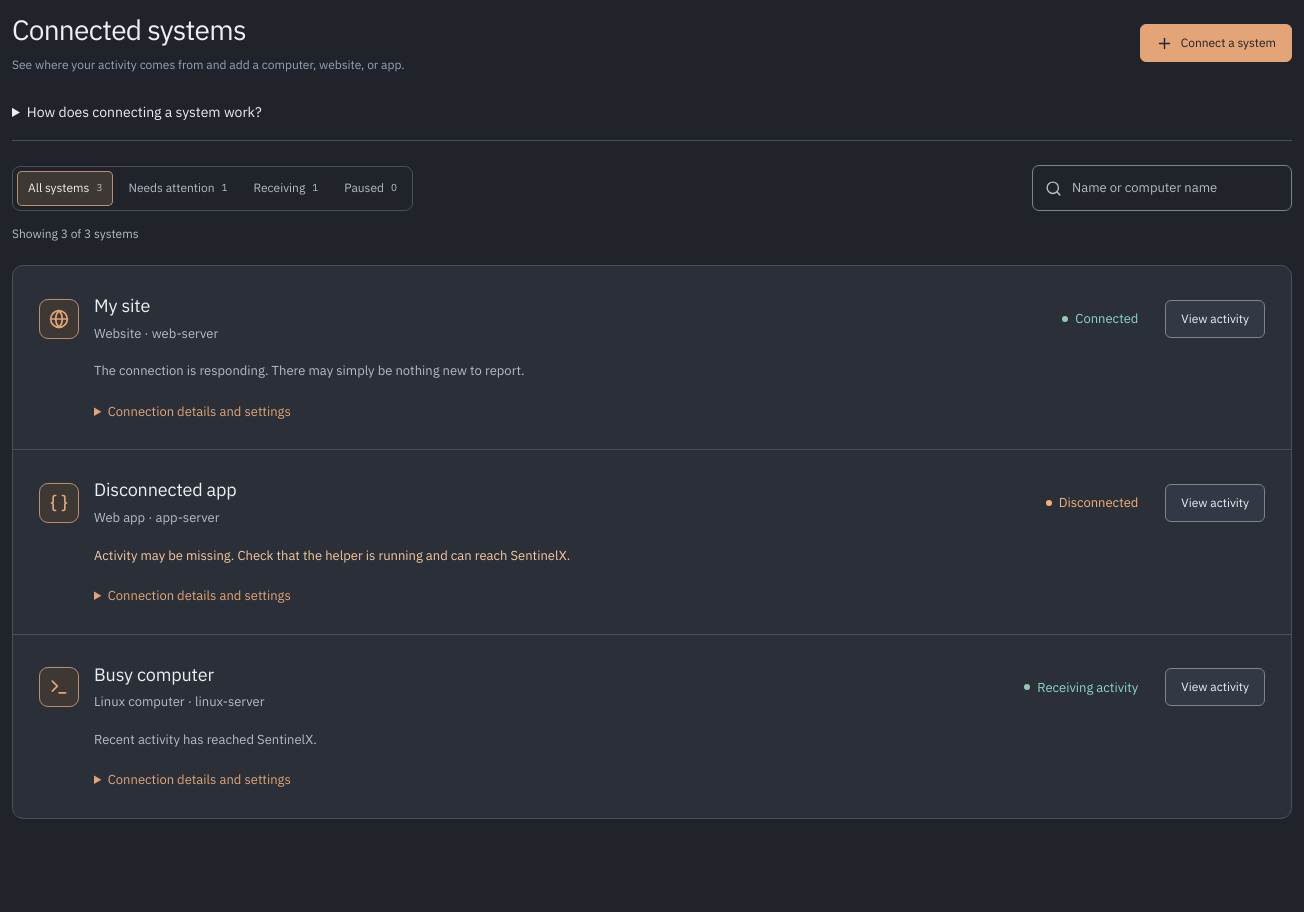
Test case: guided source onboarding › filters connection issues and searches names without changing any source
Click the radio button labelled "Needs attention" at [178, 187], box [128, 180, 228, 195]
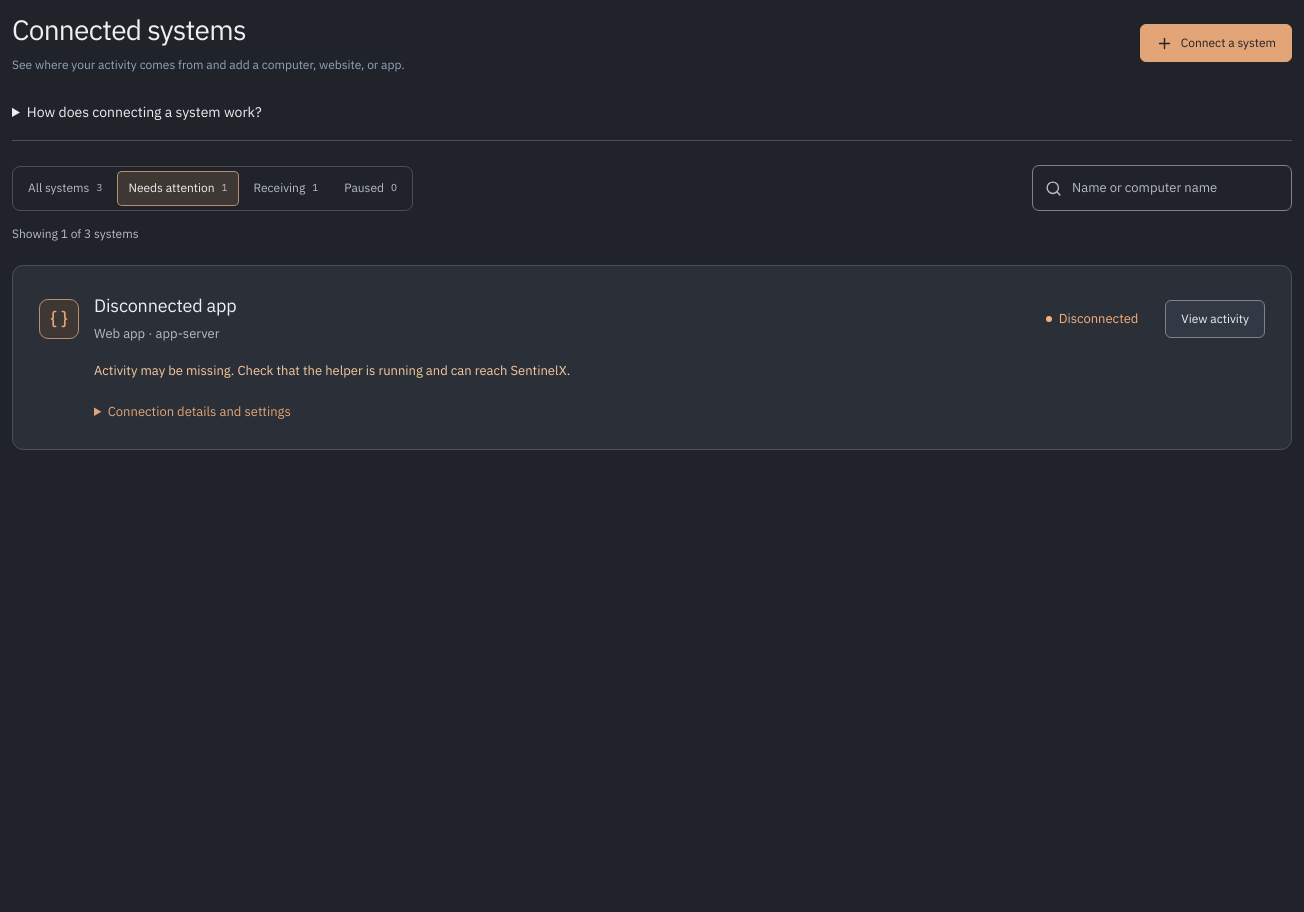
Check: the heading "Disconnected app" is shown, box [94, 294, 237, 317]
Check: the heading "My site" is gone
Check: the message reads "Showing 1 of 3 systems", box [12, 226, 138, 241]
Click the radio button labelled "All systems" at [65, 187], box [28, 180, 102, 195]
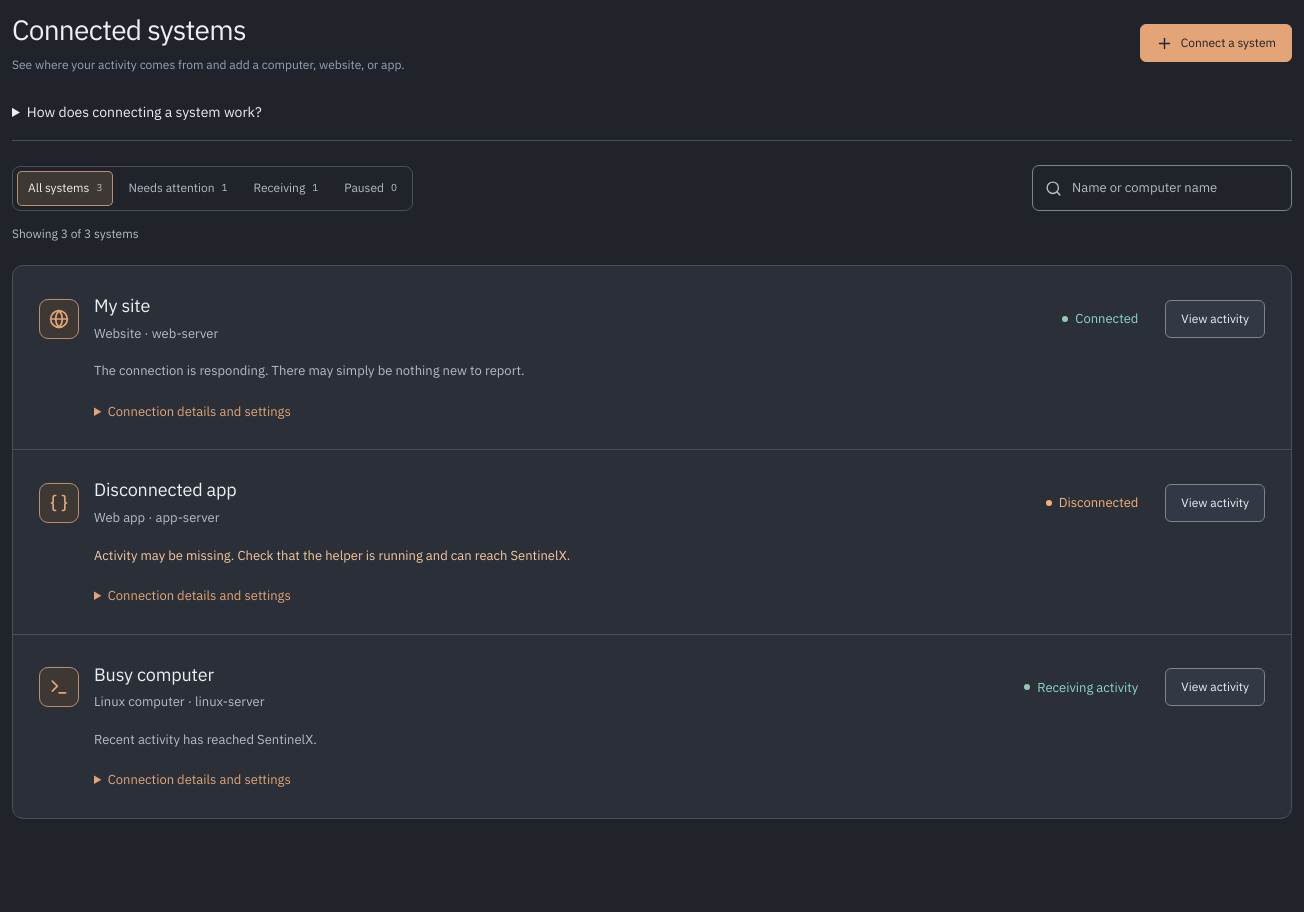
Type "linux-server" into the field named "Find a system" at [1176, 188], box [1072, 166, 1279, 210]
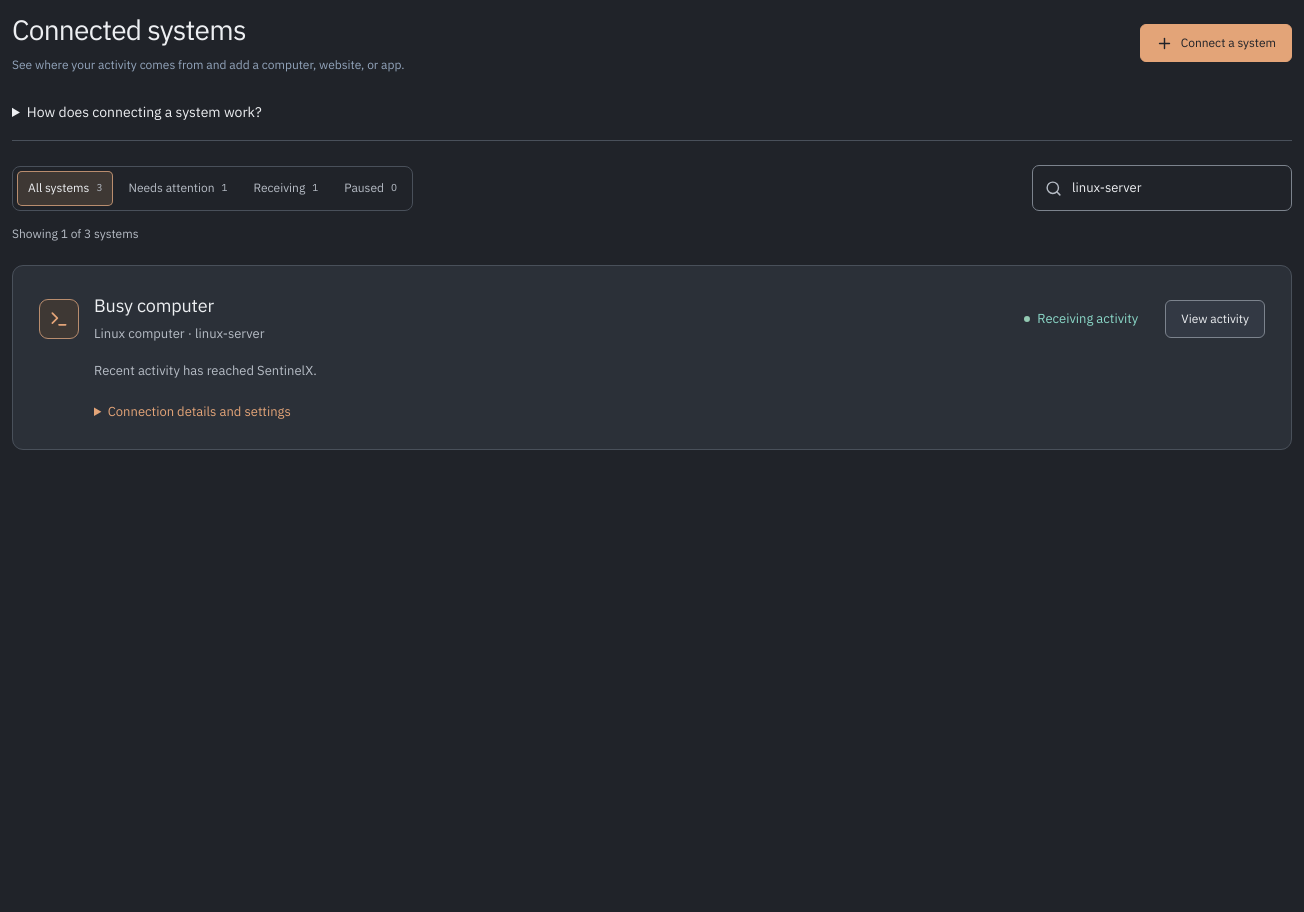
Check: the heading "Busy computer" is shown, box [94, 294, 214, 317]
Check: the heading "Disconnected app" is gone
